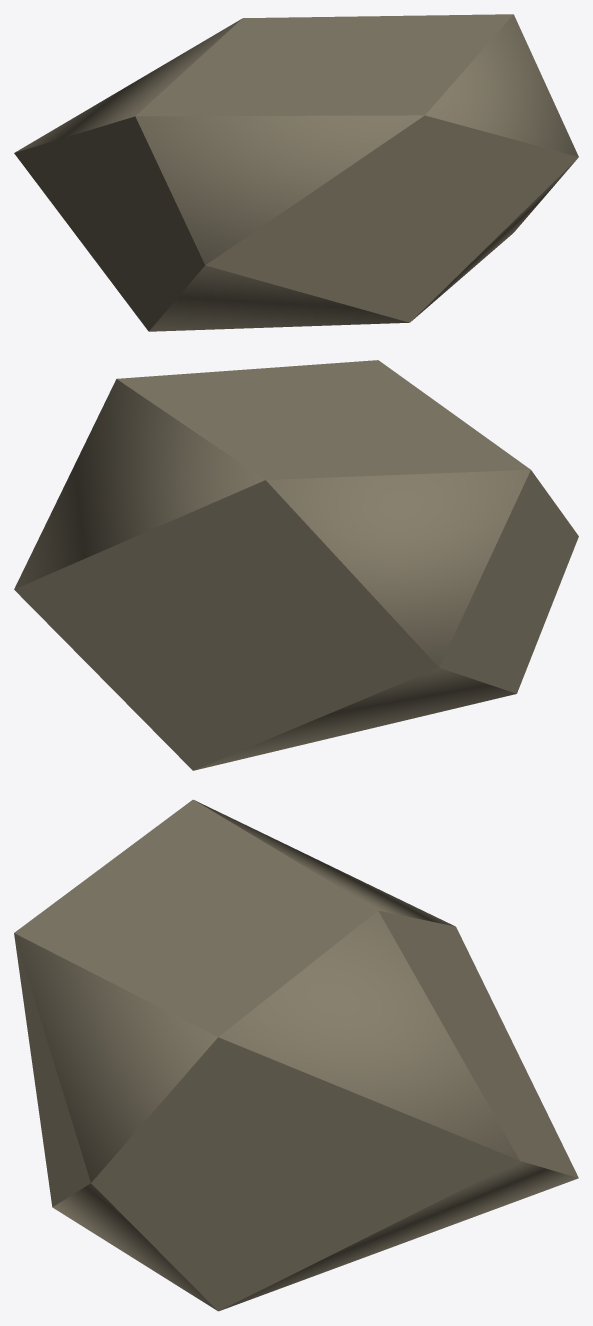
The model's file is Rock2.fbx.
The picture shows the model from 3 angles, top to bottom: view 1: azimuth 30°, elevation 25°; view 2: azimuth 150°, elevation 25°; view 3: azimuth 270°, elevation 25°; orthographic projection. The views are drawn at different scales.
Parts seen in each view (by area): view 1: Rock2; view 2: Rock2; view 3: Rock2.
Boxes of the visible parts, x1,y1,x2,y2 form: Rock2: [14, 14, 578, 331]; Rock2: [14, 360, 578, 770]; Rock2: [14, 799, 578, 1311].
Size of the model in its own units: 0.3344 by 0.1666 by 0.3111.
